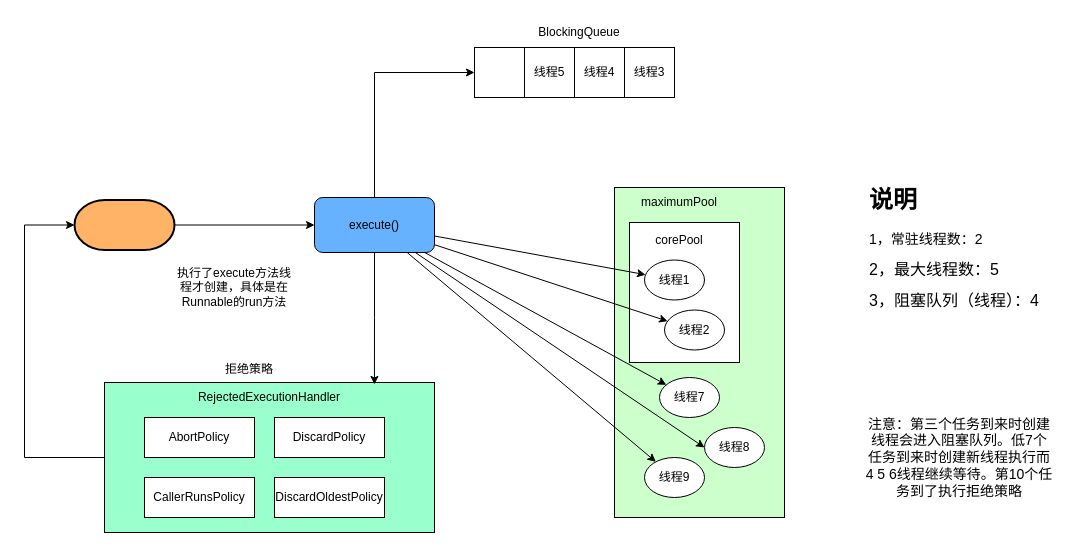
Image size: 1072x550. Some labels were removed from this diagram. The centre of each missing label's shape, as x and y in pixels:
主线程: (124,224)
线程6: (499,72)
